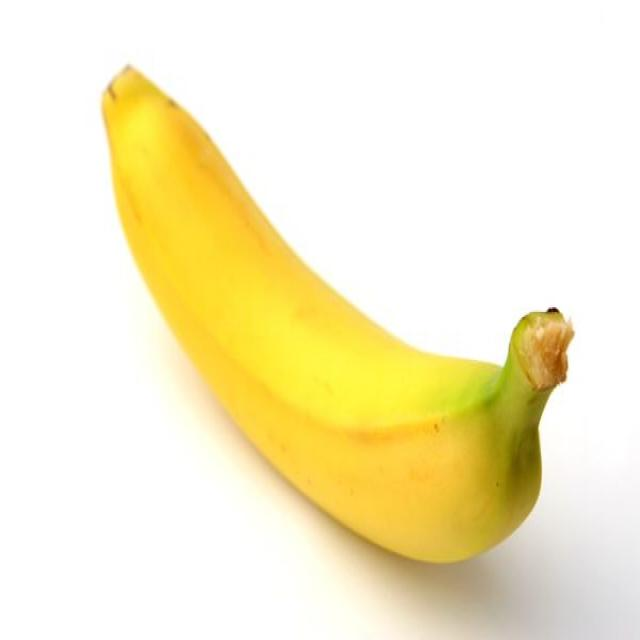Banana: (100, 61, 563, 570)
